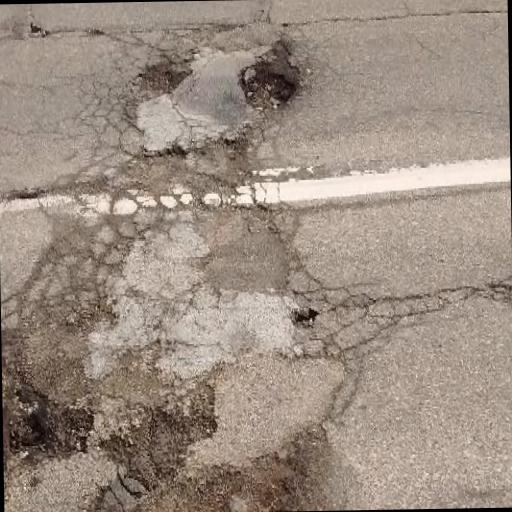pothole: (114, 404, 220, 490), (7, 382, 99, 460), (238, 43, 302, 113), (138, 56, 192, 99), (292, 302, 321, 330)
